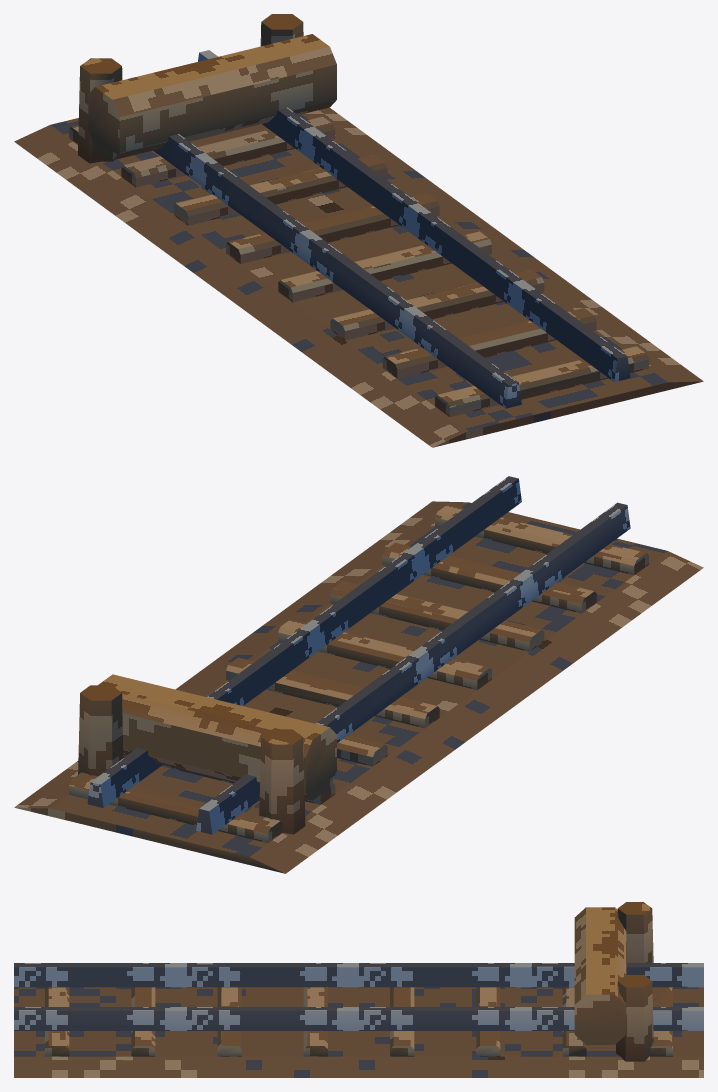
File: wmine.track__end.glb
The picture shows the model from 3 angles, top to bottom: view 1: azimuth 30°, elevation 25°; view 2: azimuth 150°, elevation 25°; view 3: azimuth 270°, elevation 25°; orthographic projection. The views are drawn at different scales.
Parts seen in each view (by area): view 1: kit_ballast, kit_rails, kit_ties, kit_chock; view 2: kit_ballast, kit_rails, kit_ties, kit_chock; view 3: kit_ballast, kit_rails, kit_chock, kit_ties.
Boxes of the visible parts, x1,y1,x2,y2 form: kit_ballast: [14, 107, 703, 447]; kit_rails: [153, 50, 630, 408]; kit_ties: [69, 116, 648, 416]; kit_chock: [78, 14, 336, 163]; kit_ballast: [14, 501, 703, 873]; kit_rails: [87, 476, 630, 834]; kit_ties: [69, 504, 648, 843]; kit_chock: [78, 674, 336, 834]; kit_ballast: [14, 987, 703, 1077]; kit_rails: [14, 963, 703, 1030]; kit_chock: [574, 902, 653, 1061]; kit_ties: [45, 987, 672, 1056].
Bounding box in the file's own units: 1.5 × 0.502 × 4.
4 materials, 4 textured.
